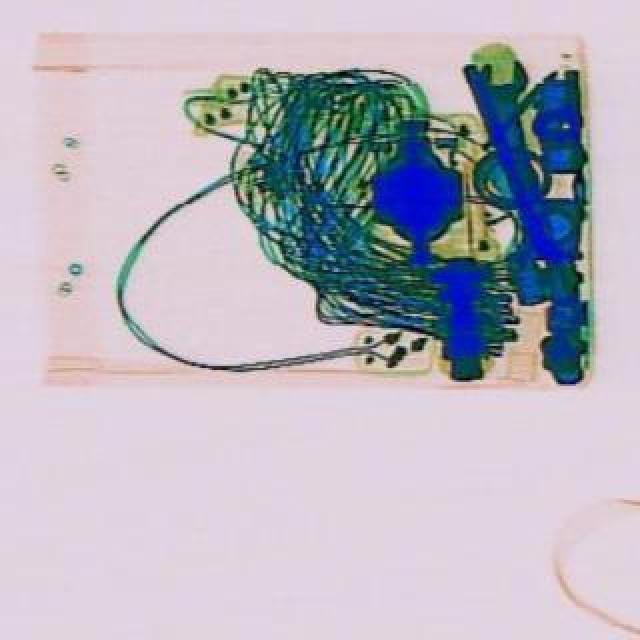scissors: (470, 56, 568, 276)
